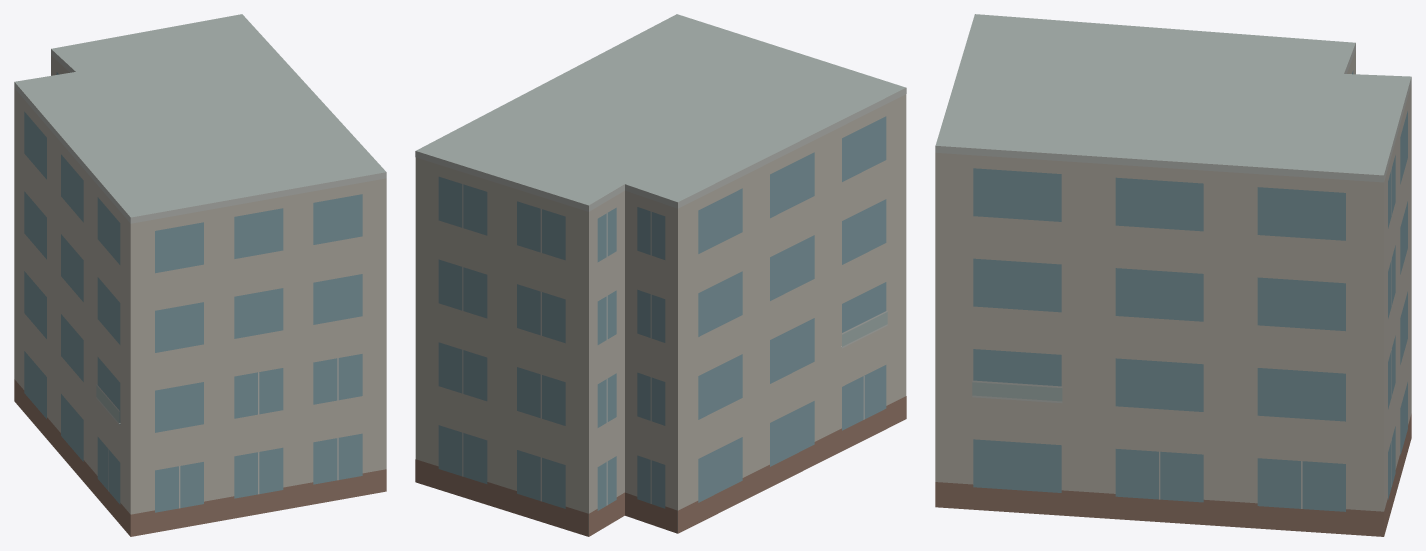
The model's file is survey-upis-32666796.glb.
The picture shows the model from 3 angles, left to right: view 1: azimuth 30°, elevation 25°; view 2: azimuth 150°, elevation 25°; view 3: azimuth 270°, elevation 25°; orthographic projection. The views are drawn at different scales.
Parts seen in each view (by area): view 1: survey-upis-32666796.tmp; view 2: survey-upis-32666796.tmp; view 3: survey-upis-32666796.tmp.
Part boxes in pixels (x1,y1,x2,y2): survey-upis-32666796.tmp: (14,14,386,536); survey-upis-32666796.tmp: (415,14,906,536); survey-upis-32666796.tmp: (935,14,1411,536).
Bounding box in the file's own units: 12.08 × 12.6 × 15.05.
